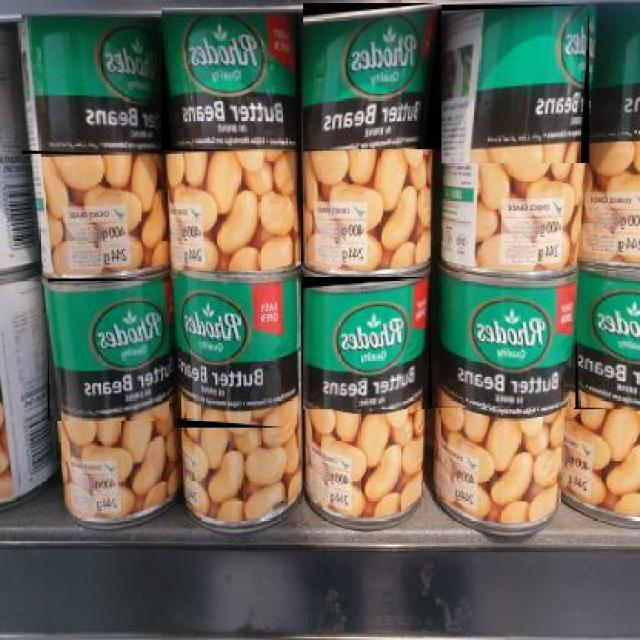Beans: (440, 6, 589, 166), (20, 12, 162, 156), (302, 3, 440, 151), (430, 272, 576, 410), (176, 271, 302, 429), (160, 8, 294, 152), (46, 278, 169, 422), (302, 277, 430, 411), (572, 271, 640, 411)
